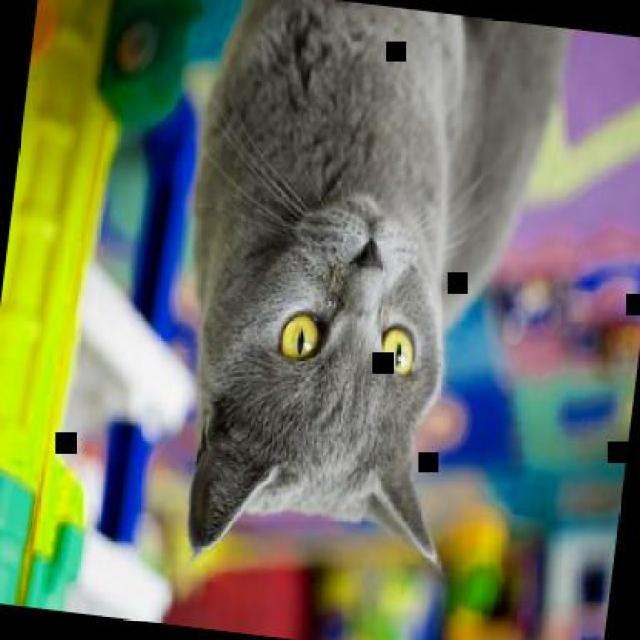cat: (142, 0, 569, 594)
